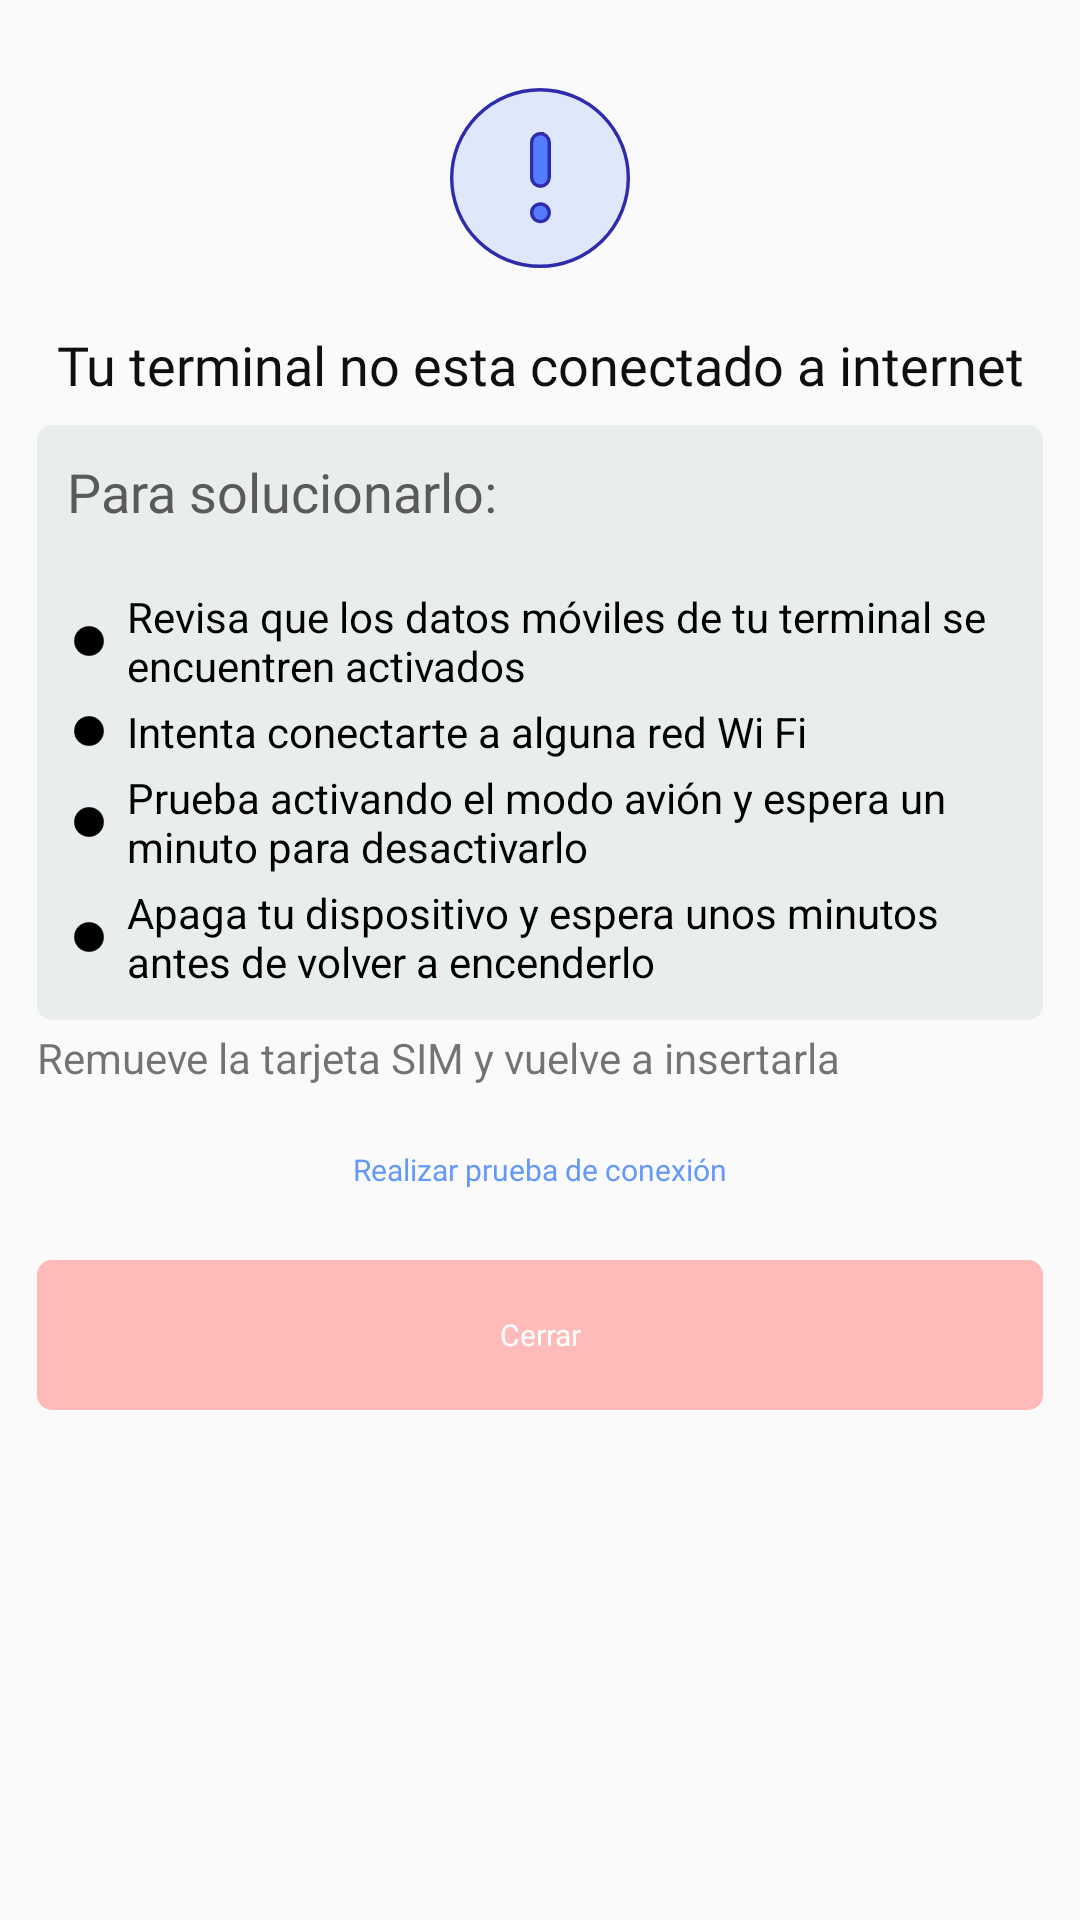

Point at icon controls on the screen. Image size 1080px×1920px, points as (x=x, y=y).
efevoo info: (x=540, y=178)
